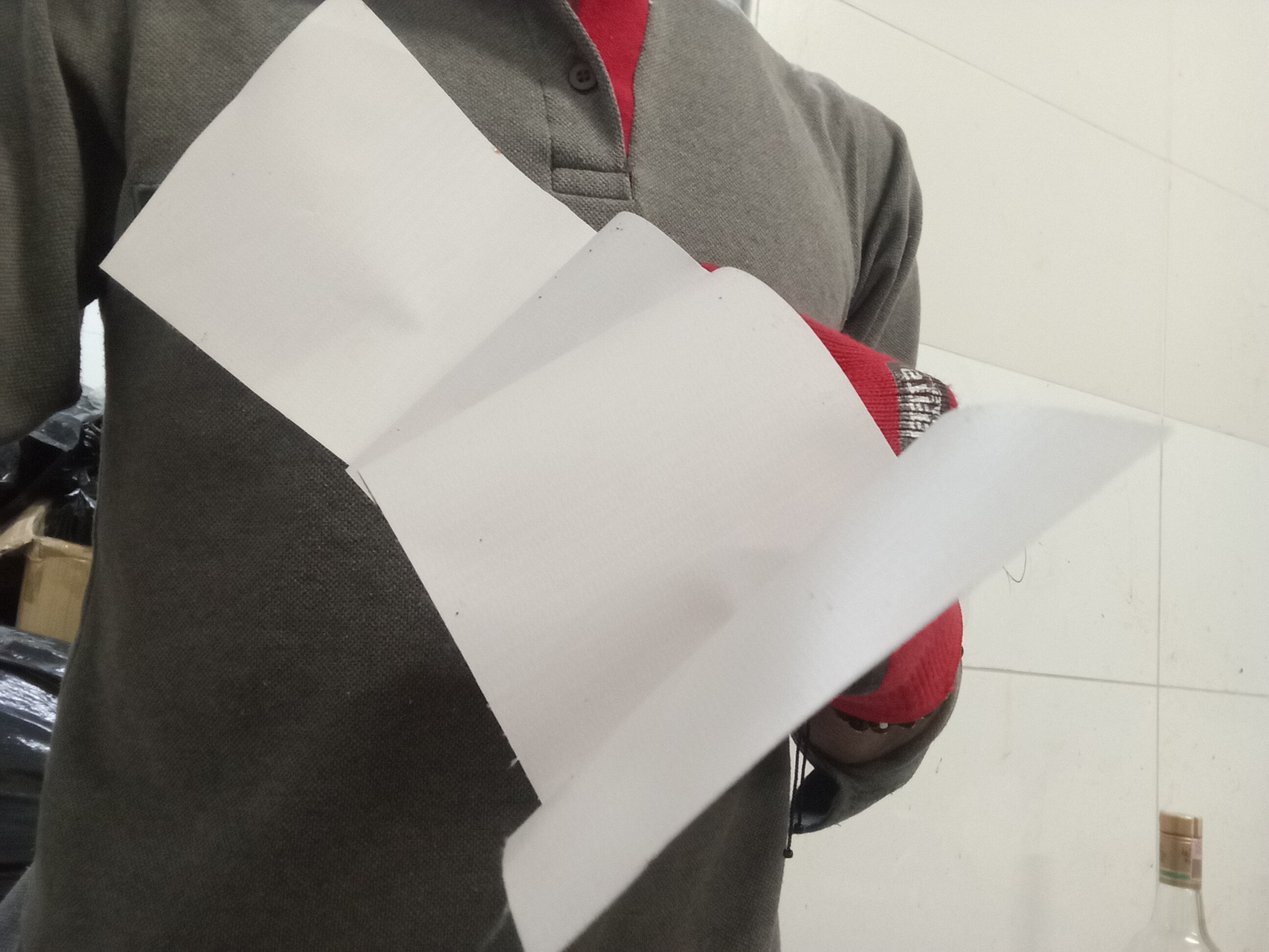Papel: (100, 0, 1171, 952)
